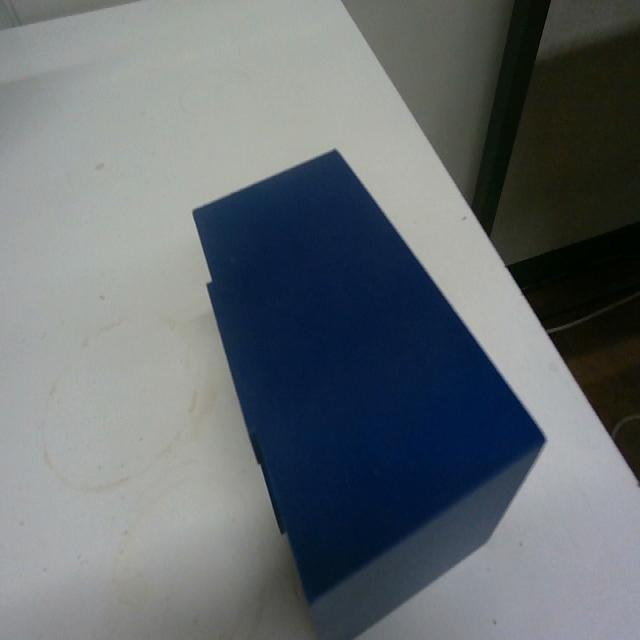Blue Cuboid: (190, 144, 547, 636)
